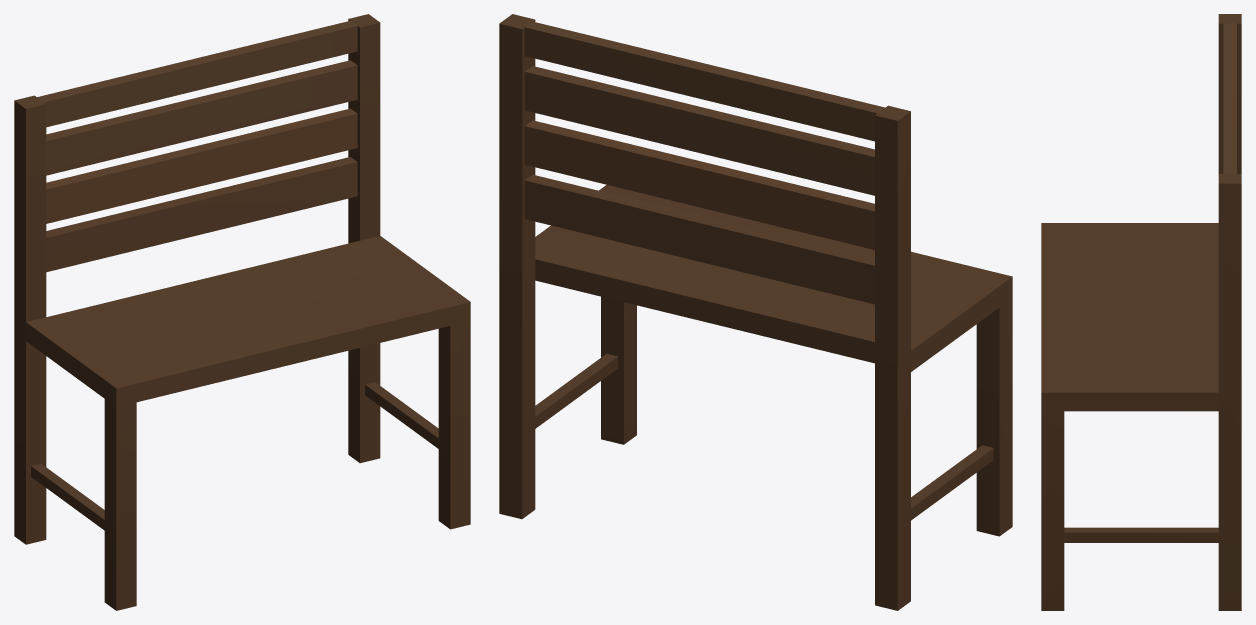
Rendered from seat.bench.walnut.glb.
3 renders of one model, left to right at view 1: azimuth 30°, elevation 25°; view 2: azimuth 150°, elevation 25°; view 3: azimuth 270°, elevation 25°, orthographic. The views are drawn at different scales.
Parts seen in each view (by area): view 1: seat_bench_walnut; view 2: seat_bench_walnut; view 3: seat_bench_walnut.
Part boxes in pixels (bbox=[...]): seat_bench_walnut: bbox=[14, 14, 470, 610]; seat_bench_walnut: bbox=[499, 14, 1012, 610]; seat_bench_walnut: bbox=[1041, 14, 1241, 610].
Size of what is drawn, in the model's own units: 0.783 by 0.92 by 0.391.
